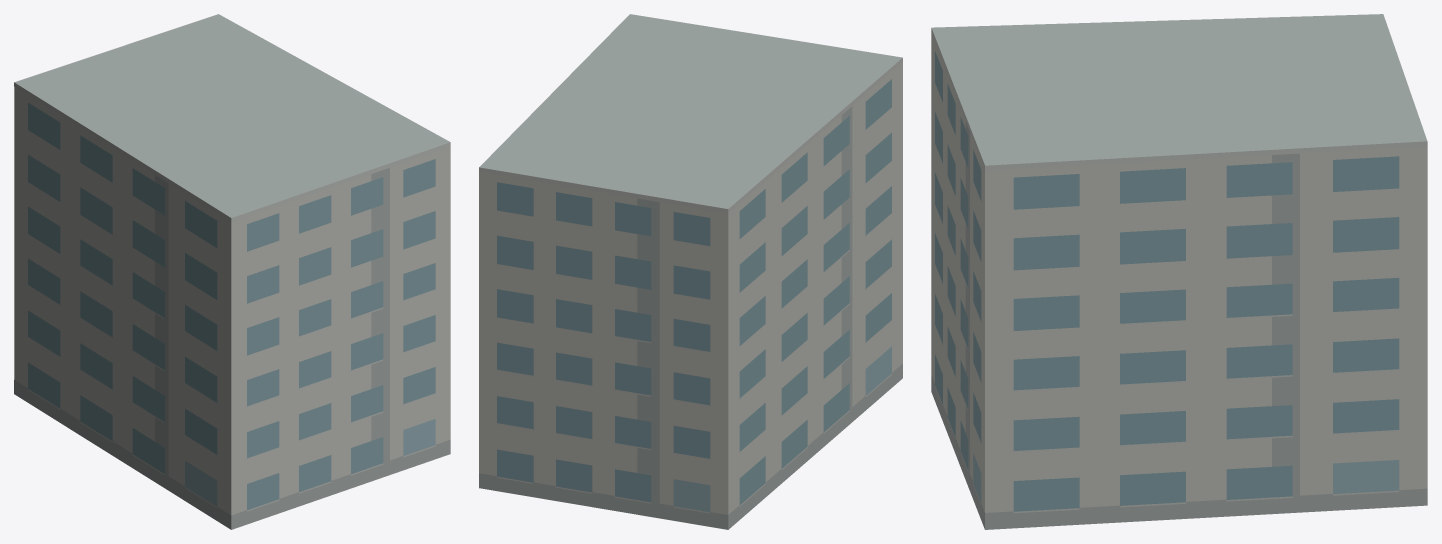
The model's file is survey-upis-32742948.glb.
3 views of the same model, side by side, from view 1: azimuth 30°, elevation 25°; view 2: azimuth 150°, elevation 25°; view 3: azimuth 270°, elevation 25° (orthographic). The views are drawn at different scales.
Parts seen in each view (by area): view 1: survey-upis-32742948.tmp; view 2: survey-upis-32742948.tmp; view 3: survey-upis-32742948.tmp.
Boxes of the visible parts, x1,y1,x2,y2 form: survey-upis-32742948.tmp: (14,14,450,529); survey-upis-32742948.tmp: (479,14,902,529); survey-upis-32742948.tmp: (931,14,1427,529).
Bounding box in the file's own units: 15.28 × 17.1 × 21.12.
